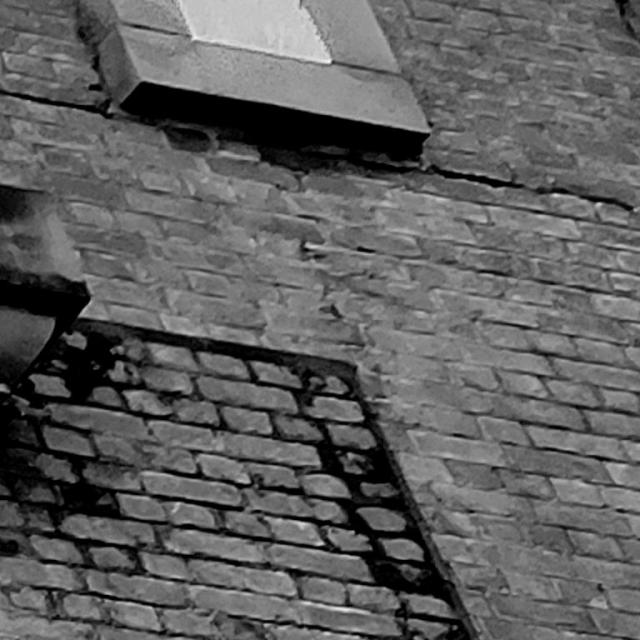crack: (1, 90, 632, 209)
